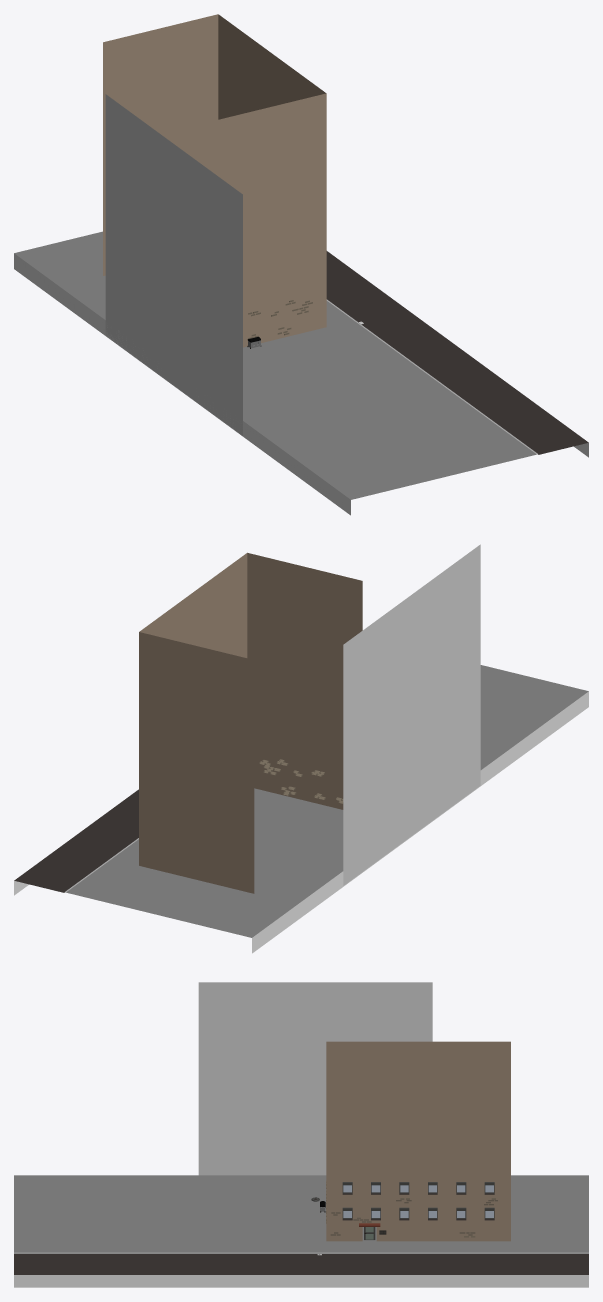
Rendered from alley.fbx.
The picture shows the model from 3 angles, top to bottom: view 1: azimuth 30°, elevation 25°; view 2: azimuth 150°, elevation 25°; view 3: azimuth 270°, elevation 25°; orthographic projection. The views are drawn at different scales.
Visible parts, largest first — view 1: ObStrasse, ObHaus, Cube.002; view 2: ObHaus, Cube.002, ObStrasse; view 3: ObStrasse, ObHaus, Cube.002.
Boxes of the visible parts, x1,y1,x2,y2 form: ObStrasse: [14, 231, 588, 515]; ObHaus: [103, 14, 326, 347]; Cube.002: [105, 94, 242, 435]; ObHaus: [139, 552, 362, 893]; Cube.002: [343, 544, 480, 885]; ObStrasse: [14, 665, 588, 953]; ObStrasse: [14, 1175, 588, 1287]; ObHaus: [326, 1041, 510, 1241]; Cube.002: [198, 982, 432, 1175].
Bounding box in the file's own units: 33 × 33.1 × 81.
